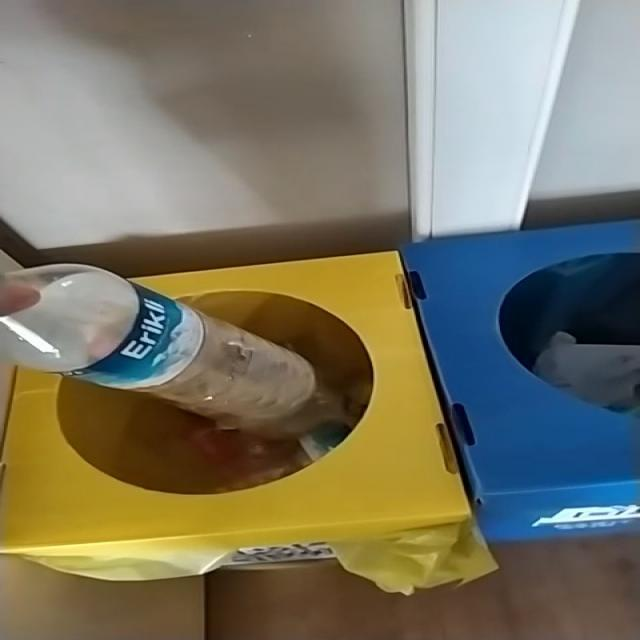Plastic: (1, 264, 316, 432)
